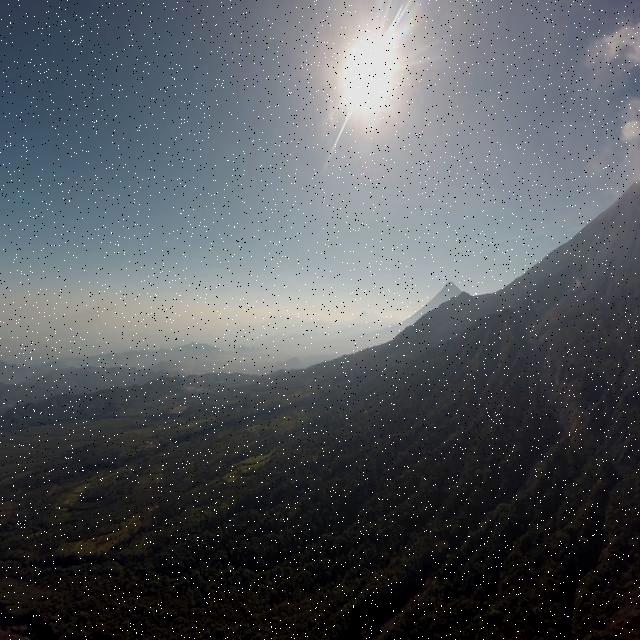Plume: (591, 19, 640, 87), (622, 115, 640, 155)
Summit: (618, 173, 640, 204)
